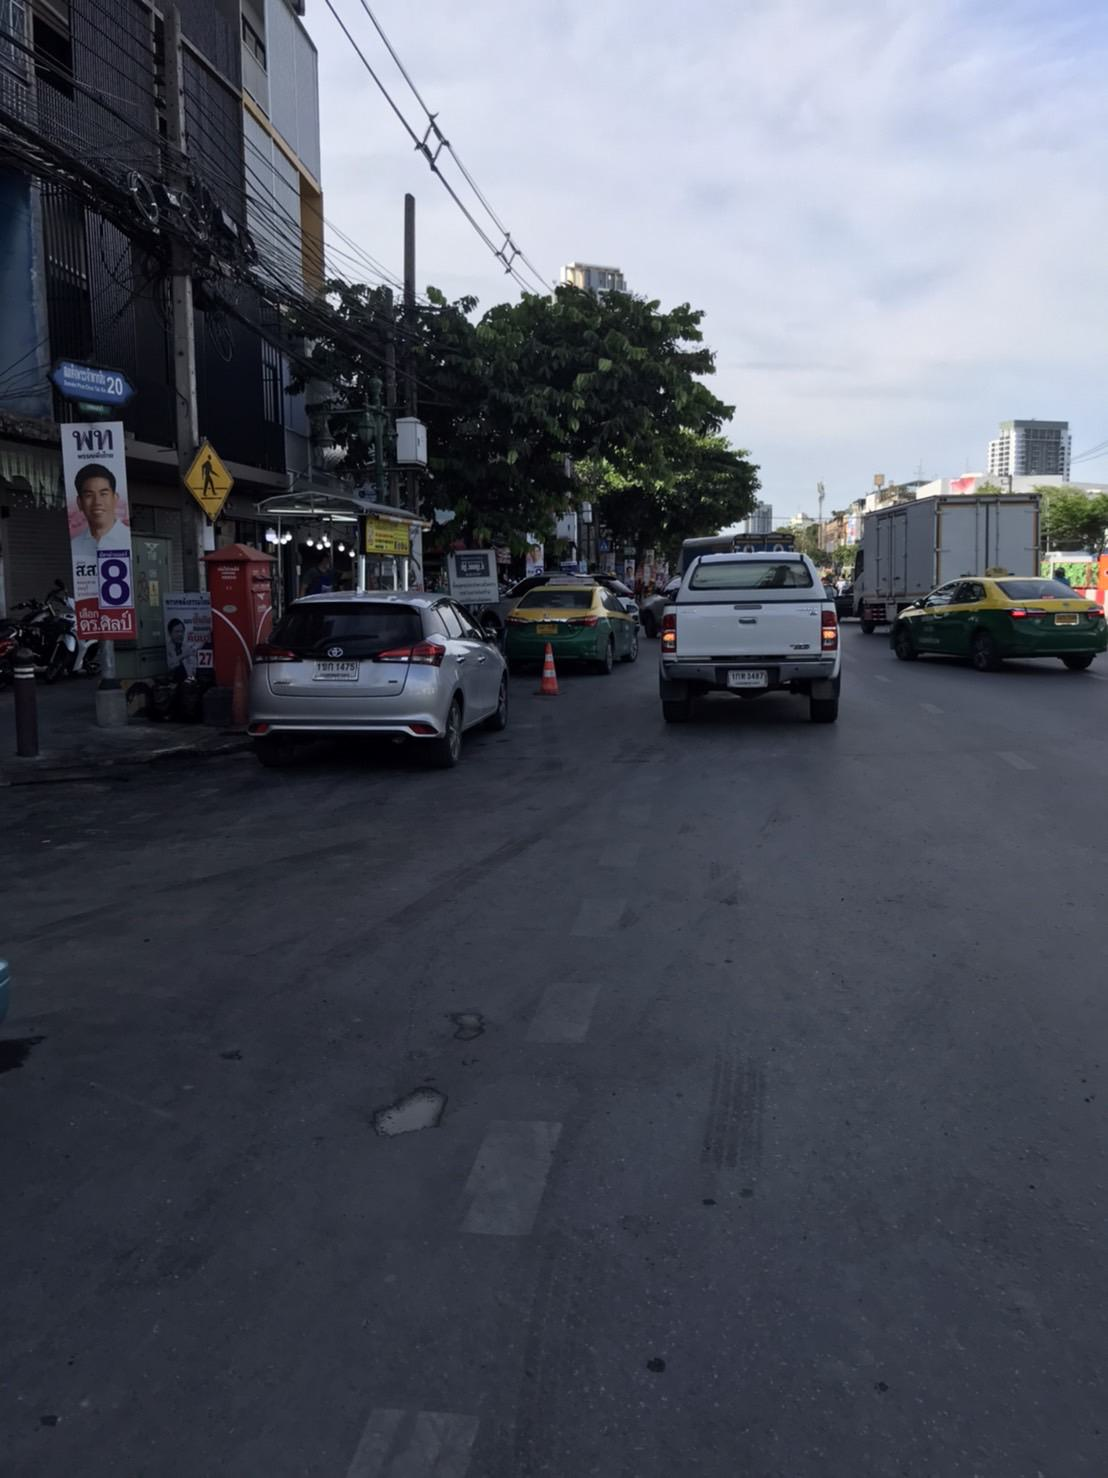Banner: (41, 410, 166, 665)
